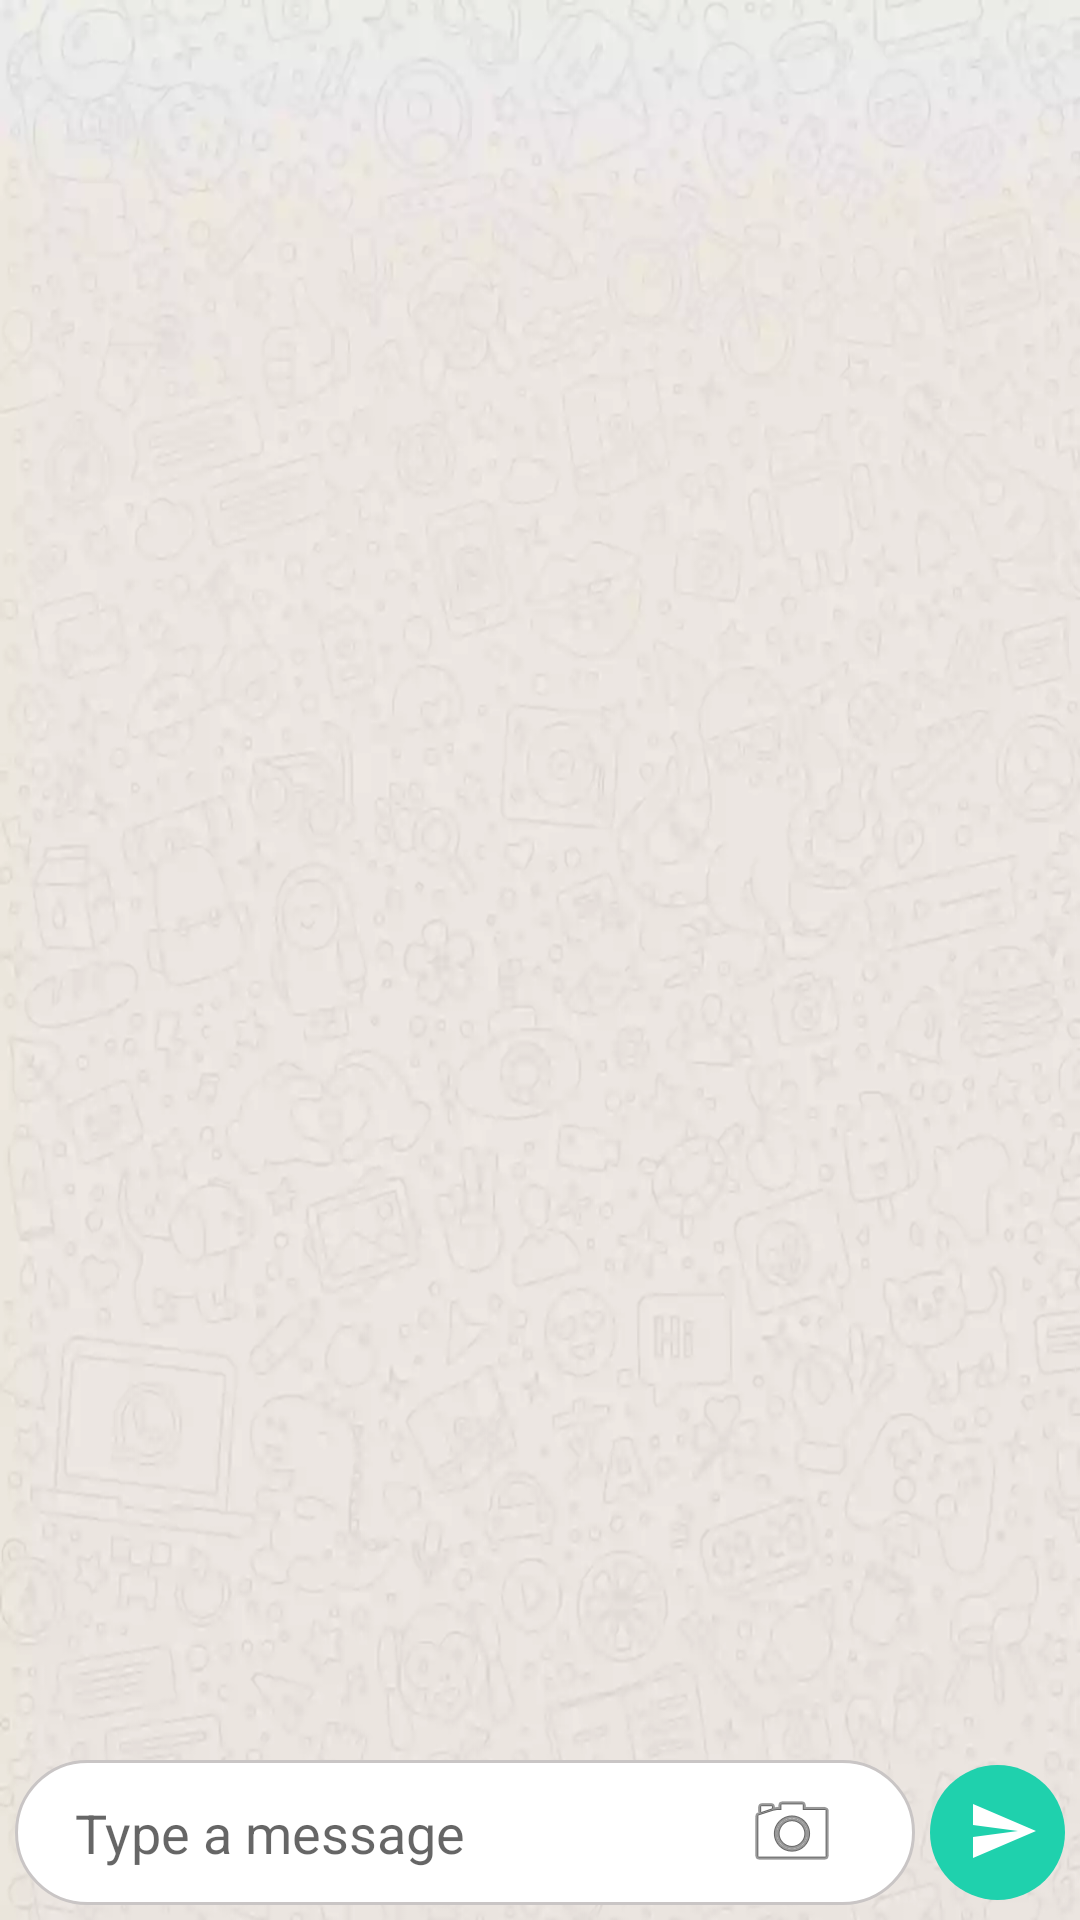

Locate icon controls on the screen. Image size 1080 x 1920, boxes as box(x1, y1, x2, y2).
camera: box(755, 1801, 829, 1860)
send: box(973, 1804, 1036, 1858)
